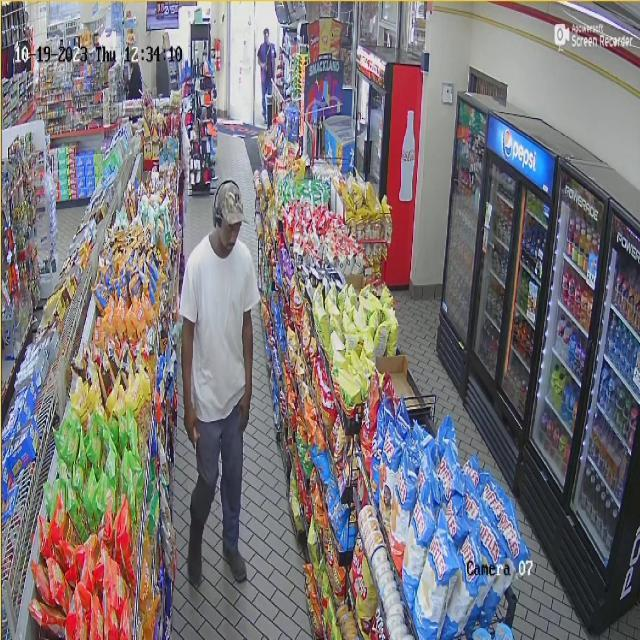Normal: (179, 168, 258, 602), (253, 20, 282, 132)
